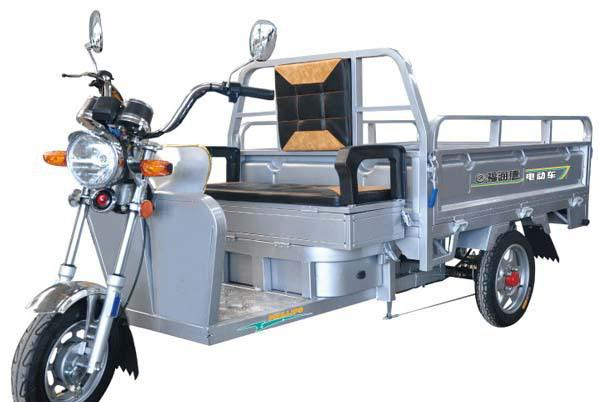tricycle: (14, 32, 583, 390)
